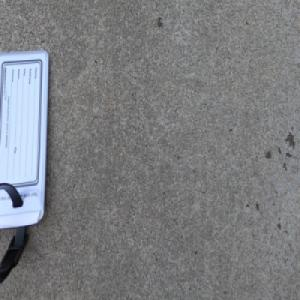LuggageTag: (0, 46, 51, 278)
